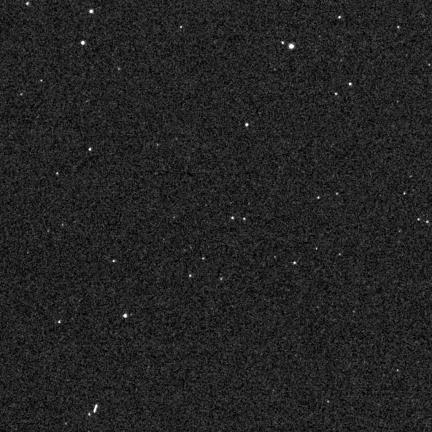blob: (289, 44, 294, 49), (123, 314, 127, 318), (338, 16, 342, 20), (81, 41, 85, 45), (202, 257, 206, 261), (90, 9, 94, 13), (26, 2, 30, 6), (281, 41, 285, 45), (189, 274, 192, 279), (427, 220, 430, 225), (231, 217, 235, 220), (58, 321, 62, 324), (349, 83, 352, 87), (317, 197, 321, 200), (89, 148, 92, 152), (418, 218, 421, 222), (397, 26, 400, 29), (335, 93, 338, 96), (243, 218, 246, 221), (294, 262, 297, 265), (180, 26, 183, 29), (246, 123, 248, 126)
